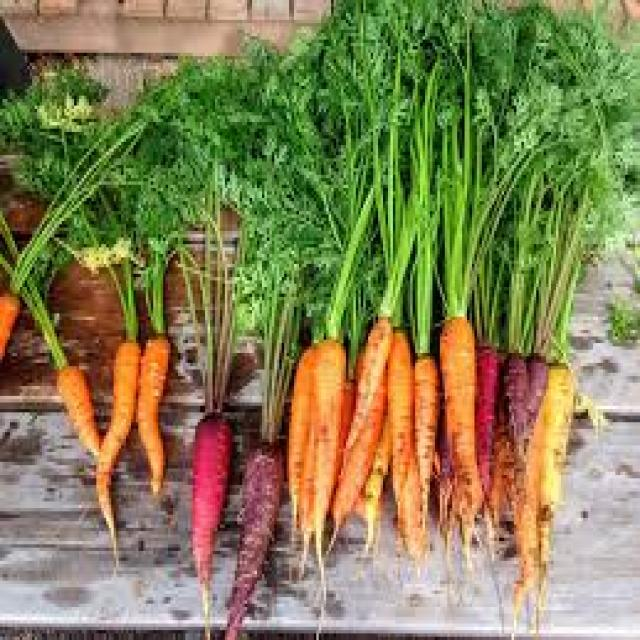Carrot: (432, 316, 486, 536), (93, 334, 144, 560), (137, 327, 188, 523), (302, 352, 344, 564), (379, 326, 420, 529), (40, 366, 110, 466)
